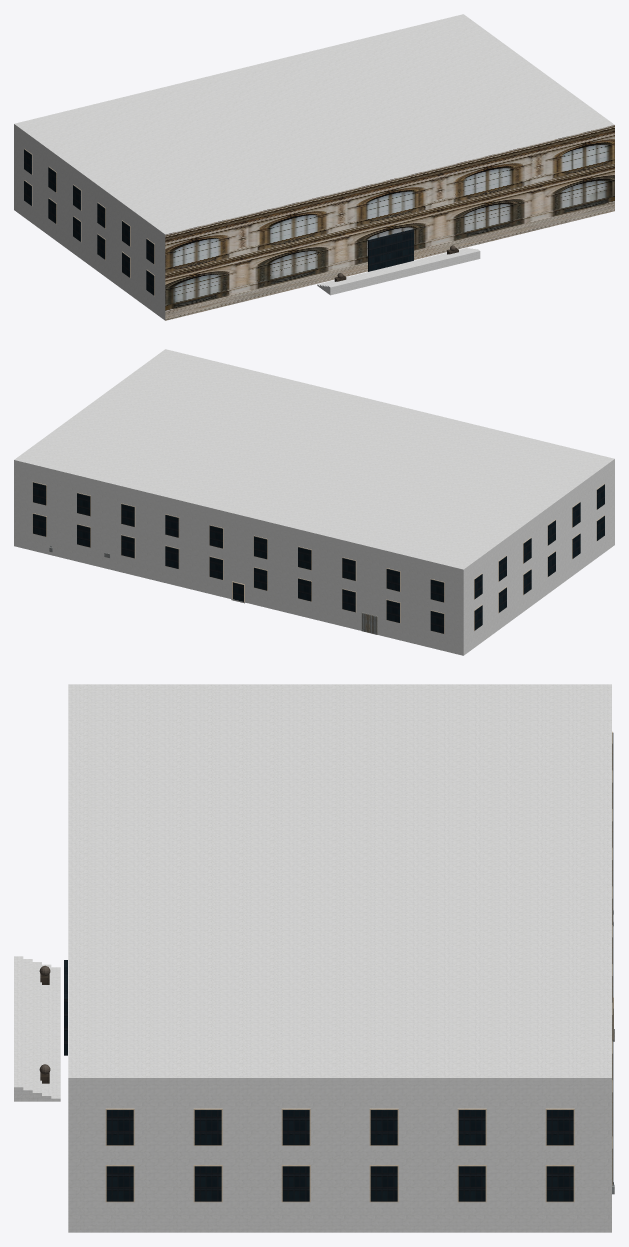
The model's file is central-library_lod0.gltf.
3 views of the same model, one above another, from view 1: azimuth 30°, elevation 25°; view 2: azimuth 150°, elevation 25°; view 3: azimuth 270°, elevation 25° (orthographic). The views are drawn at different scales.
Parts seen in each view (by area): view 1: central-library_main, central-library_front, central-library_stairs, central-library_fen_07-glass-curtain-blue_1_t, central-library__entry_doors; view 2: central-library_main, central-library_fen_07-glass-curtain-blue_1_t, central-library_fen_04-limestone_0; view 3: central-library_main, central-library_fen_07-glass-curtain-blue_1_t, central-library_stairs, central-library_fen_04-limestone_0.
Boxes of the visible parts, x1,y1,x2,y2 form: central-library_main: [14, 14, 614, 320]; central-library_front: [165, 125, 614, 320]; central-library_stairs: [317, 248, 480, 295]; central-library_fen_07-glass-curtain-blue_1_t: [24, 149, 154, 295]; central-library__entry_doors: [368, 229, 413, 271]; central-library_main: [14, 349, 614, 655]; central-library_fen_07-glass-curtain-blue_1_t: [33, 482, 604, 633]; central-library_fen_04-limestone_0: [32, 482, 604, 634]; central-library_main: [68, 684, 611, 1232]; central-library_fen_07-glass-curtain-blue_1_t: [106, 733, 613, 1201]; central-library_stairs: [14, 956, 60, 1101]; central-library_fen_04-limestone_0: [105, 731, 613, 1202].
Size of the model in its own units: 120 by 22.02 by 77.4.
